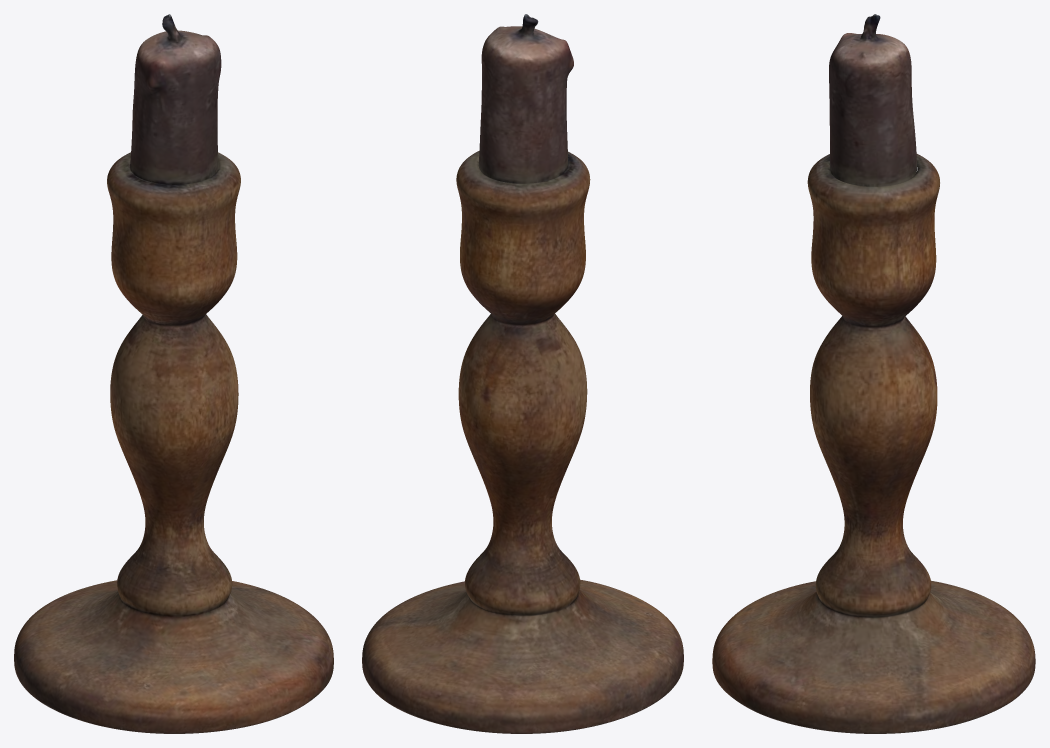
File: wooden_candlestick.gltf
3 views of the same model, side by side, from view 1: azimuth 30°, elevation 25°; view 2: azimuth 150°, elevation 25°; view 3: azimuth 270°, elevation 25° (orthographic).
Parts seen in each view (by area): view 1: wooden_candlestick; view 2: wooden_candlestick; view 3: wooden_candlestick.
Boxes of the visible parts, <box> form: wooden_candlestick: <box>14,14,333,733</box>; wooden_candlestick: <box>362,14,683,733</box>; wooden_candlestick: <box>712,14,1035,733</box>.
Bounding box in the file's own units: 0.0972 × 0.2197 × 0.0987.
Materials: 1 (1 with a texture image).
